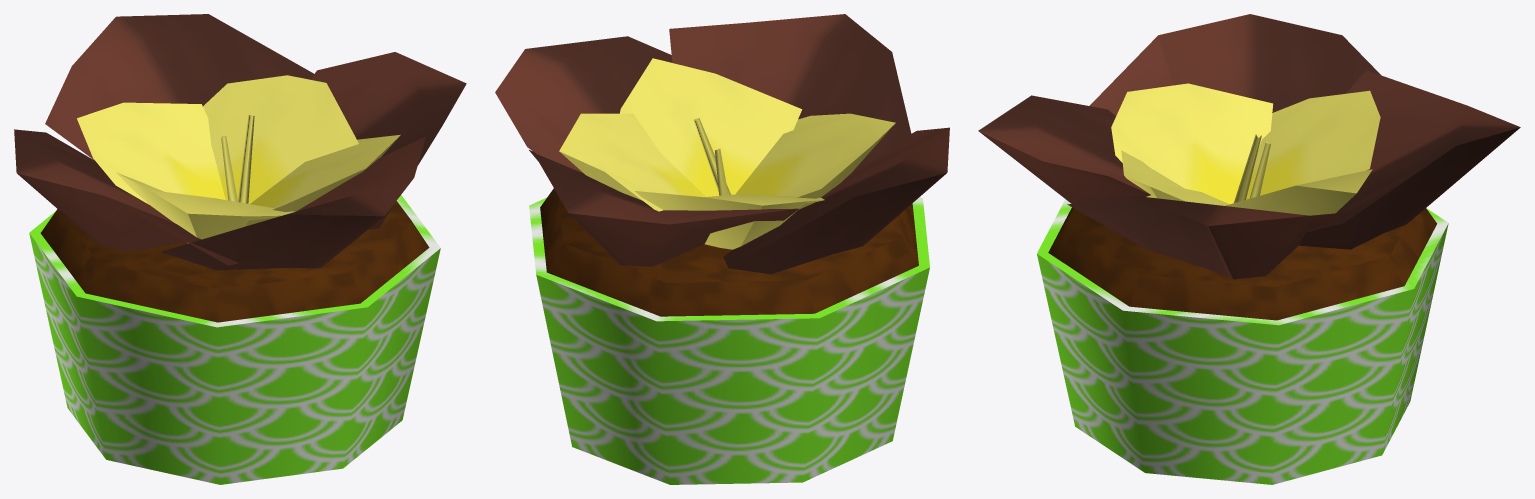
File: Cupcake_B_17.FBX
3 renders of one model, left to right at view 1: azimuth 30°, elevation 25°; view 2: azimuth 150°, elevation 25°; view 3: azimuth 270°, elevation 25°, orthographic. The views are drawn at different scales.
Visible parts, largest first — view 1: Cupcake_B; view 2: Cupcake_B; view 3: Cupcake_B.
Boxes of the visible parts, left/top/right/bottom form: Cupcake_B: left=14, top=14, right=466, bottom=484; Cupcake_B: left=495, top=14, right=949, bottom=484; Cupcake_B: left=978, top=14, right=1520, bottom=484.
Bounding box in the file's own units: 38.73 × 26.15 × 41.87.
